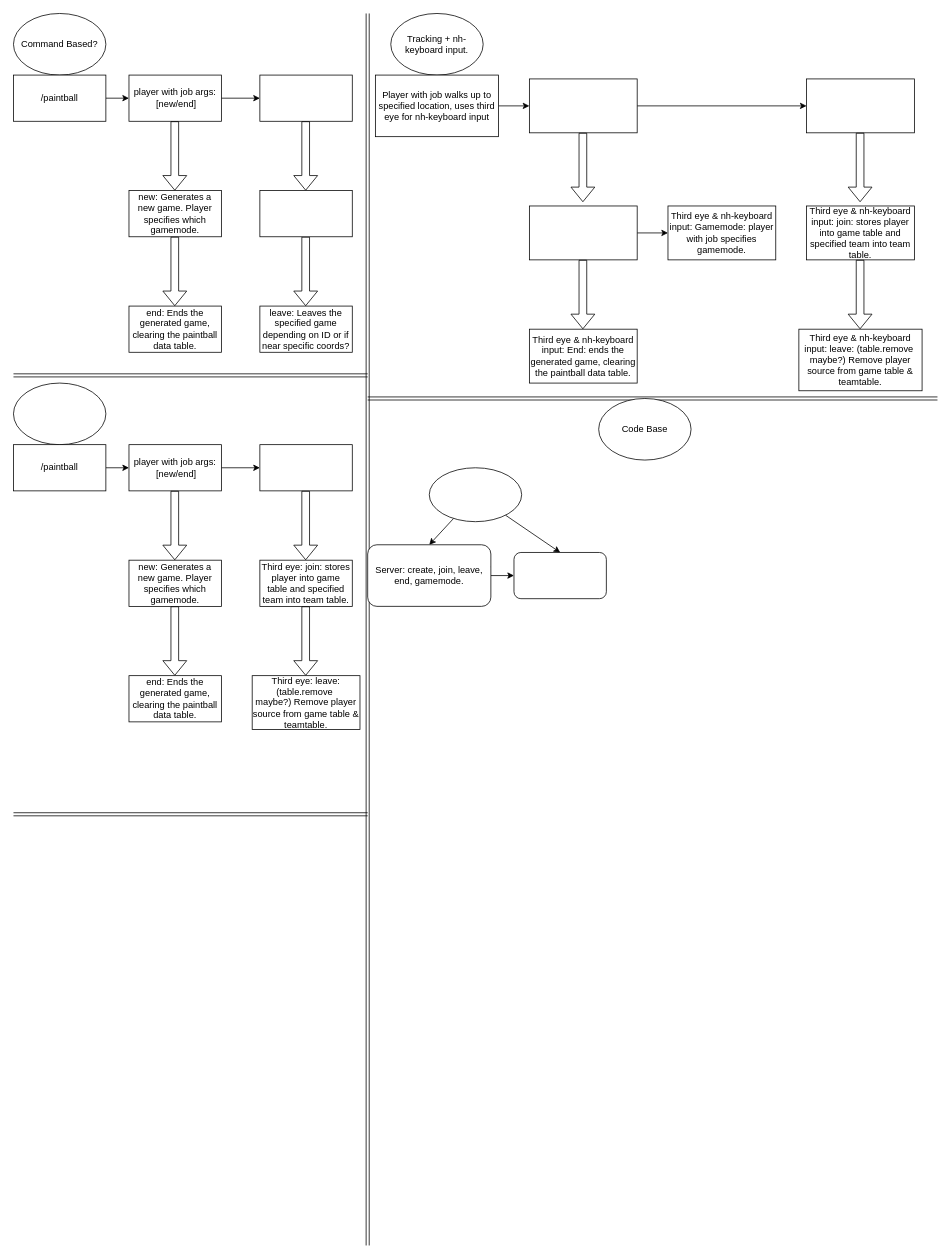
This 951x1259 diagram has some shape labels left out. Here are the shapes that lost their labels. From the top down, the box of each, then its label:
(259, 74, 352, 121): normal player args: [join/leave]
(529, 78, 637, 133): New/End in argument box.
(806, 78, 914, 133): Join/Leave in argument box.
(259, 190, 352, 237): join: joins the specified game depending on ID or if near specific coords?
(529, 205, 637, 260): Third eye & nh-keyboard input: New: generates a new game.
(13, 382, 106, 445): Tracking + Command based.
(259, 444, 352, 491): normal player tracking: options = {join / leave}
(429, 467, 522, 522): Commands
(513, 552, 606, 599): Update Clients.
